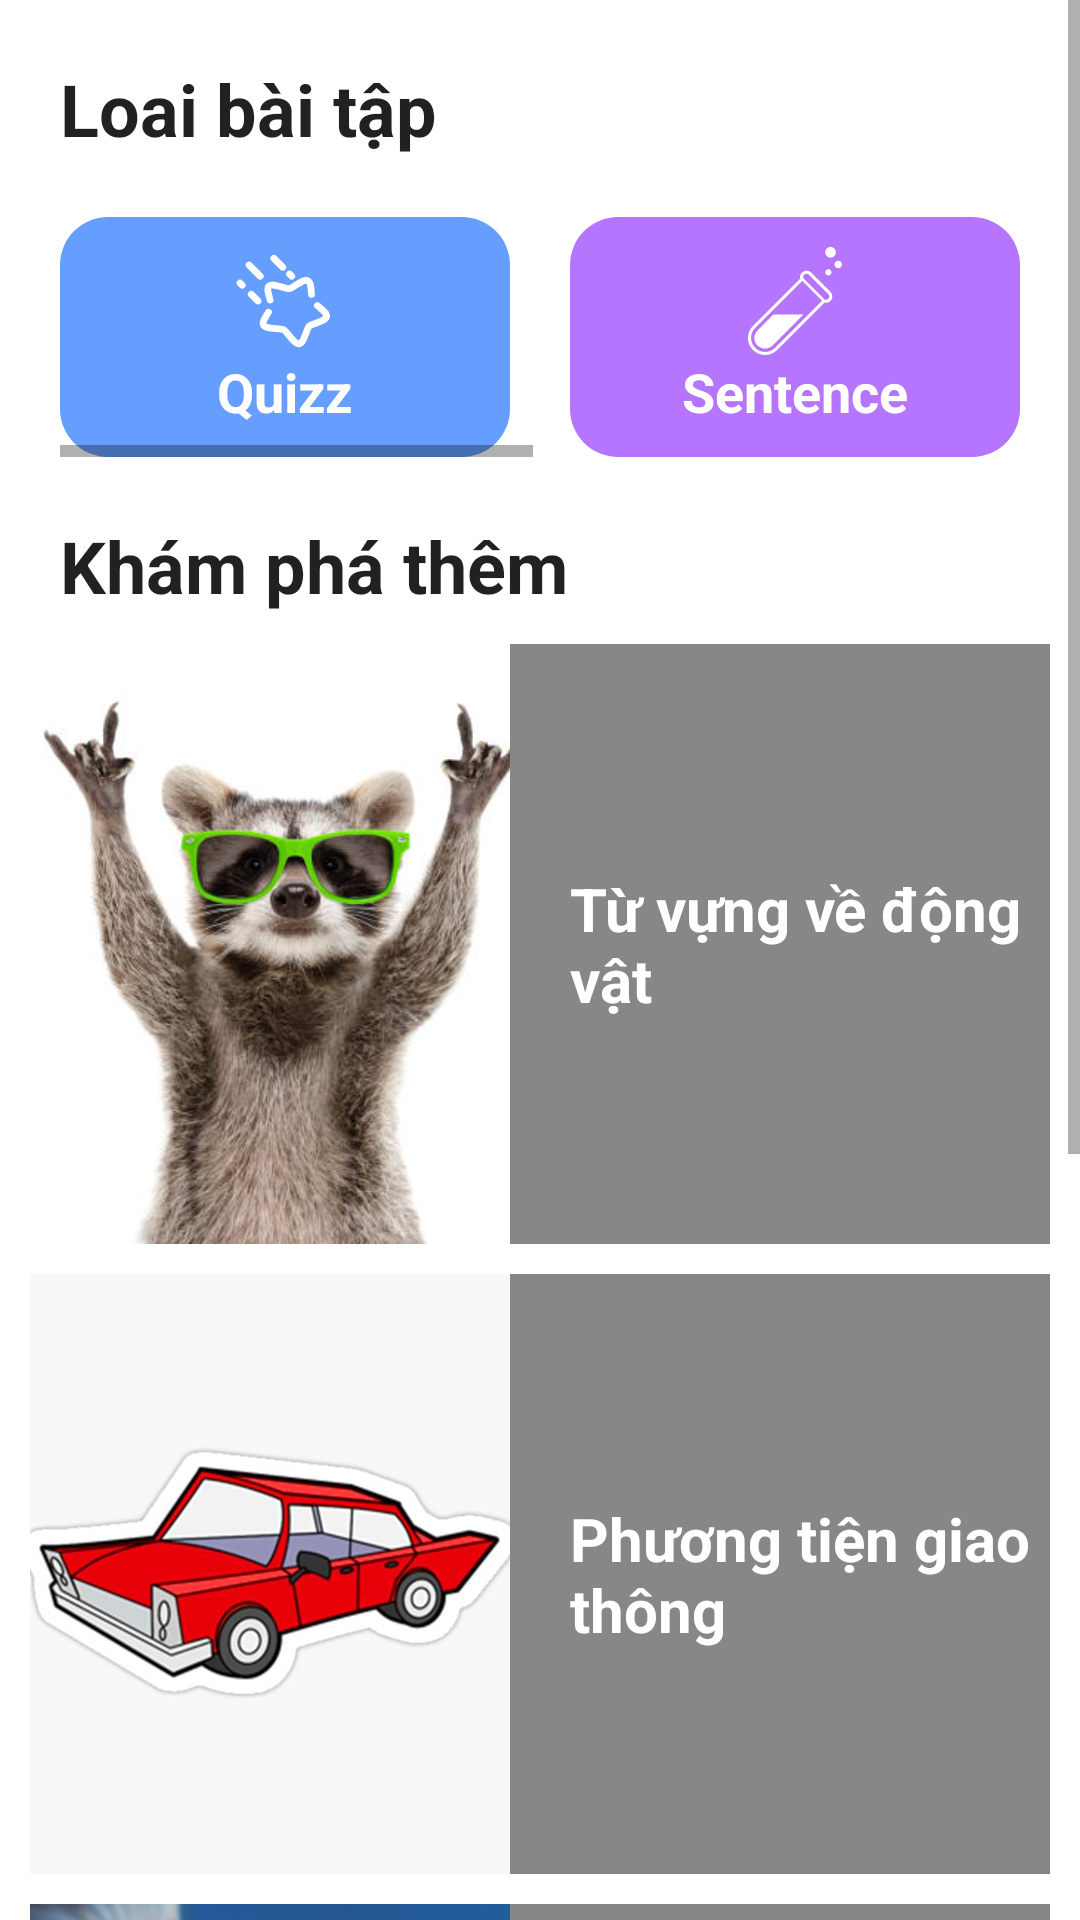

Icon bounding boxes for this 1080×1920 phone screenshot, format {"left": x1, "top": y1, "right": x2, "bottom": y2}:
star fall: {"left": 236, "top": 254, "right": 330, "bottom": 348}
